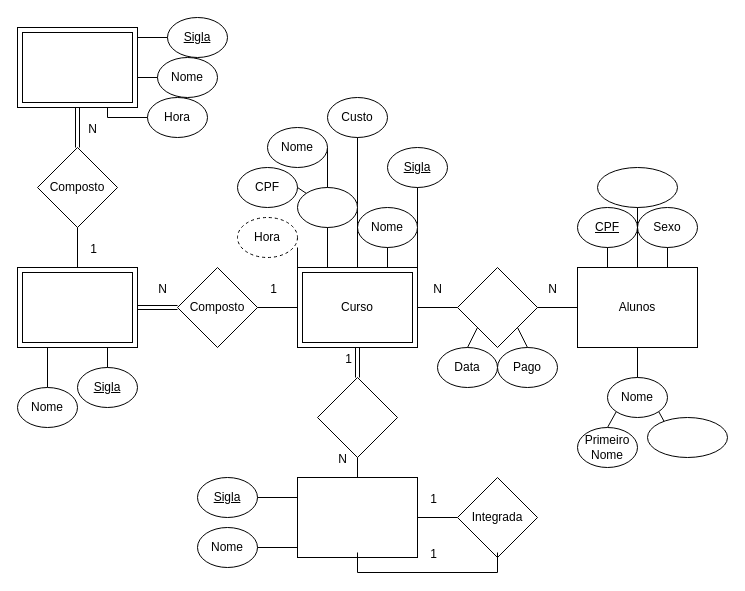
Some shapes in this 745 by 591 pixel diagram are drawn without their labels. Each missing label, with the centre of its shape:
Data de Nascimento: point (637, 187)
Matricular: point (497, 307)
Módulos: point (77, 307)
Pertence: point (357, 417)
Professor: point (327, 207)
Sobrenome: point (687, 437)
Tópicos: point (77, 67)
Área de Conhecimento: point (357, 517)
